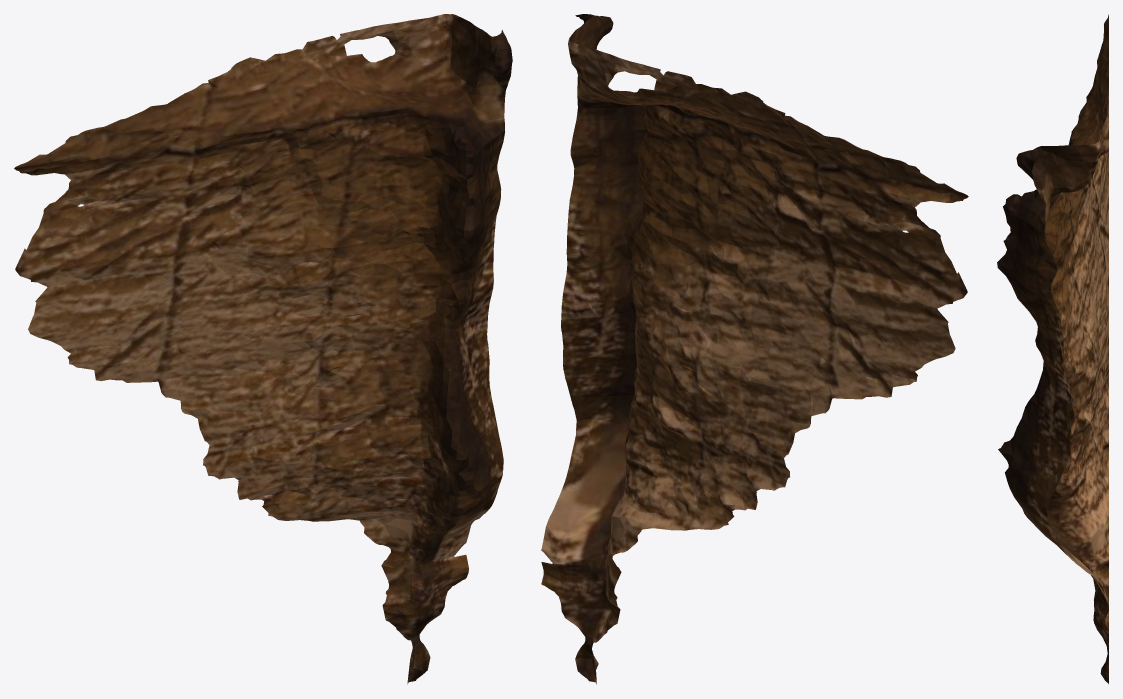
3 renders of one model, left to right at view 1: azimuth 30°, elevation 25°; view 2: azimuth 150°, elevation 25°; view 3: azimuth 270°, elevation 25°, orthographic. The views are drawn at different scales.
Bounding box in the file's own units: 1.05 × 1.48 × 0.2708.
1 material, 1 textured.
